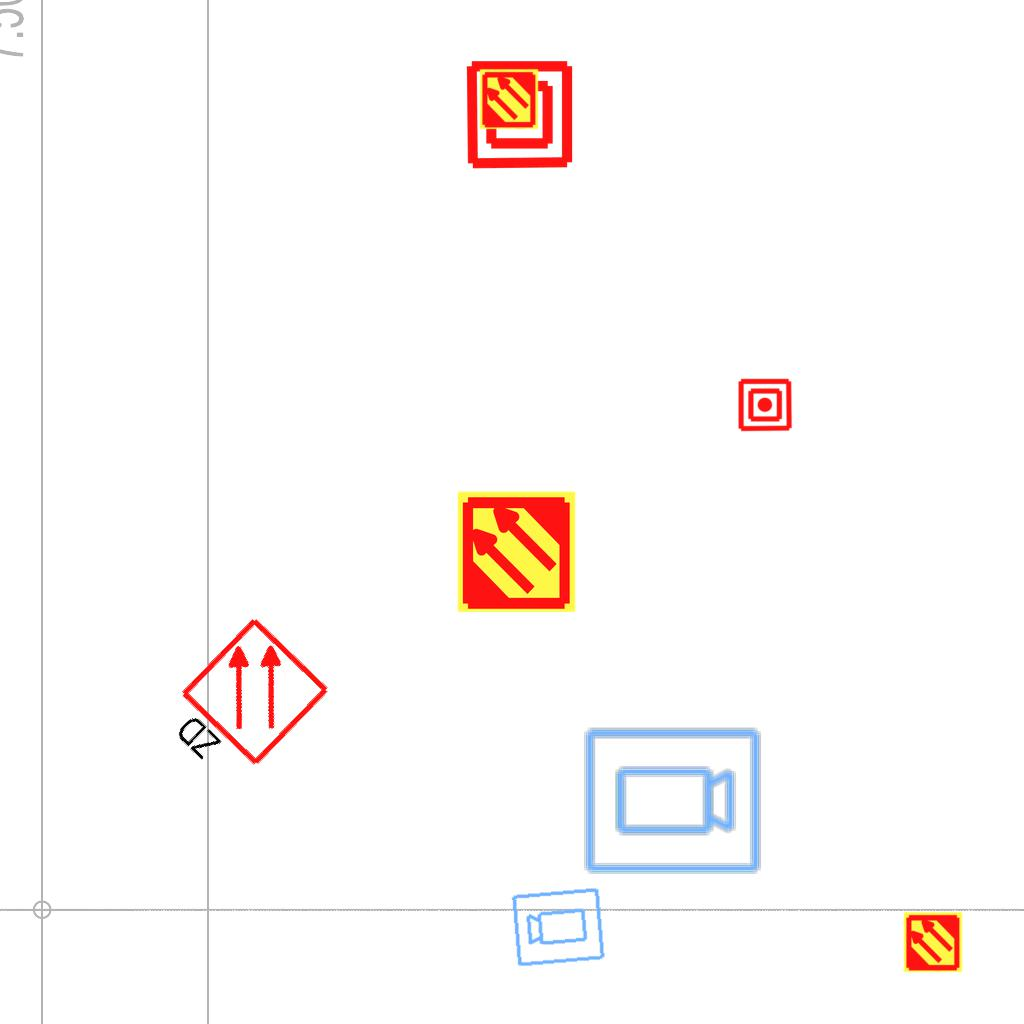ASR_Ansaugrauchmelder: (454, 489, 579, 614), (902, 911, 964, 973), (478, 68, 540, 130)
KFO_Kamera_mit_Festobjektiv: (581, 725, 763, 879), (509, 884, 608, 969)
NAM-Nichtautomatischer_Melder: (463, 58, 576, 171), (737, 377, 793, 433)
ZD_Melder_in_Zwischendecke_mit_Revisionsoeffnung_mind_40_x_40_cm: (150, 613, 336, 800)
